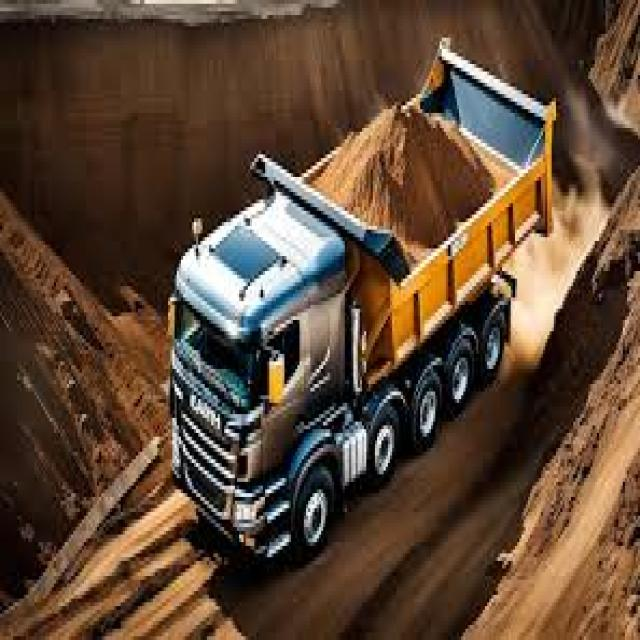truck: (160, 34, 556, 570)
